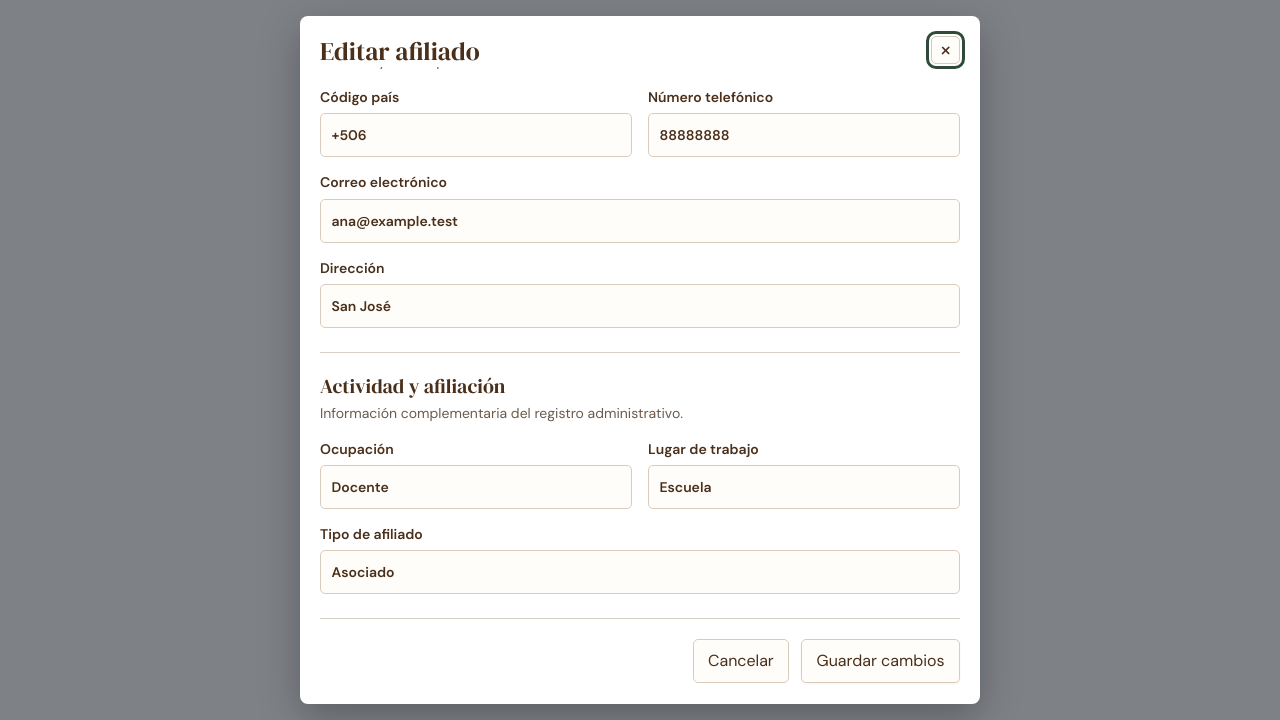
Test: Affiliate detail and edit › shows update errors, including conflict responses
(page scrolled)
Click the button "Guardar cambios" at (881, 661), box [801, 639, 960, 683]
(page scrolled)
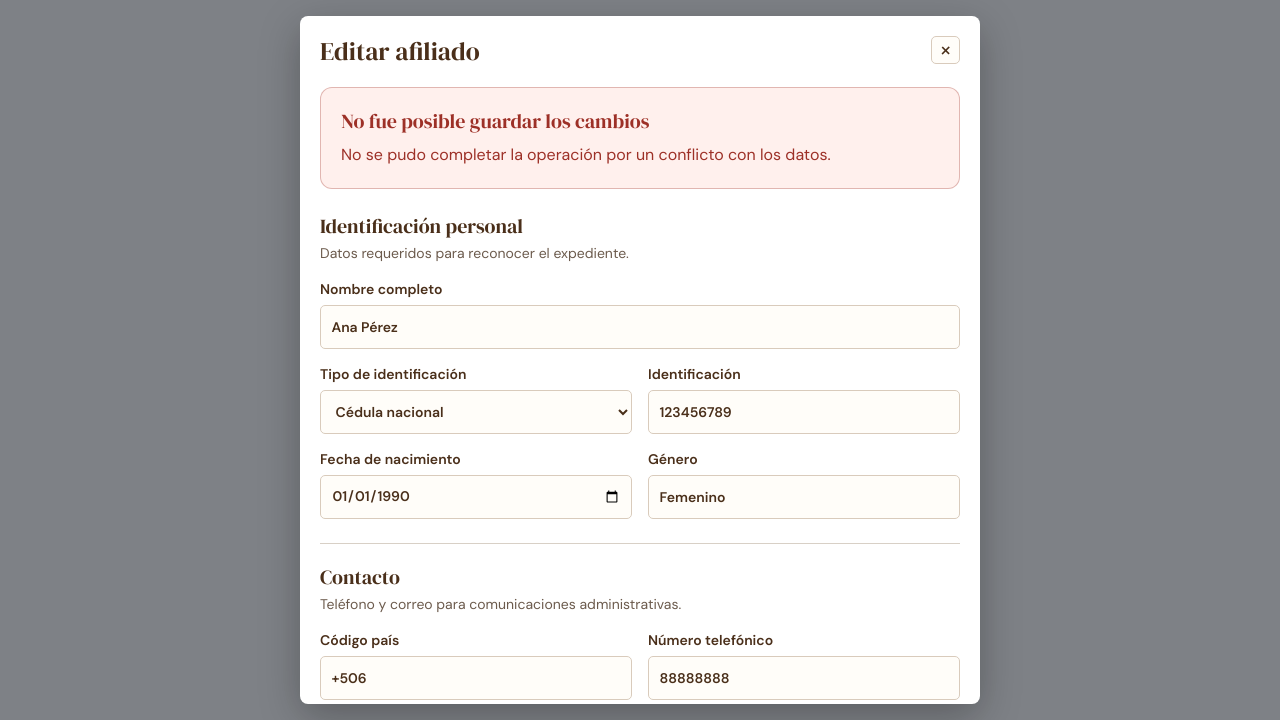
Check: the message shows "No se pudo completar la operación por un conflicto con los datos.", box [341, 144, 831, 165]
